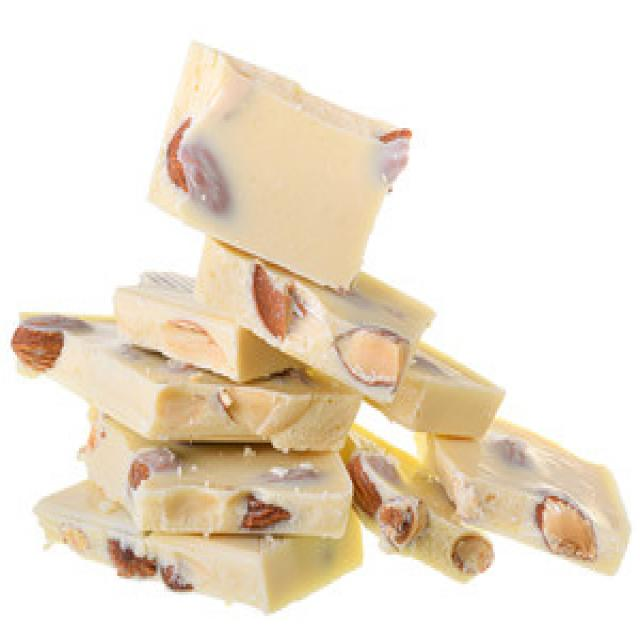chocolate: (16, 234, 640, 615), (160, 35, 412, 302)
